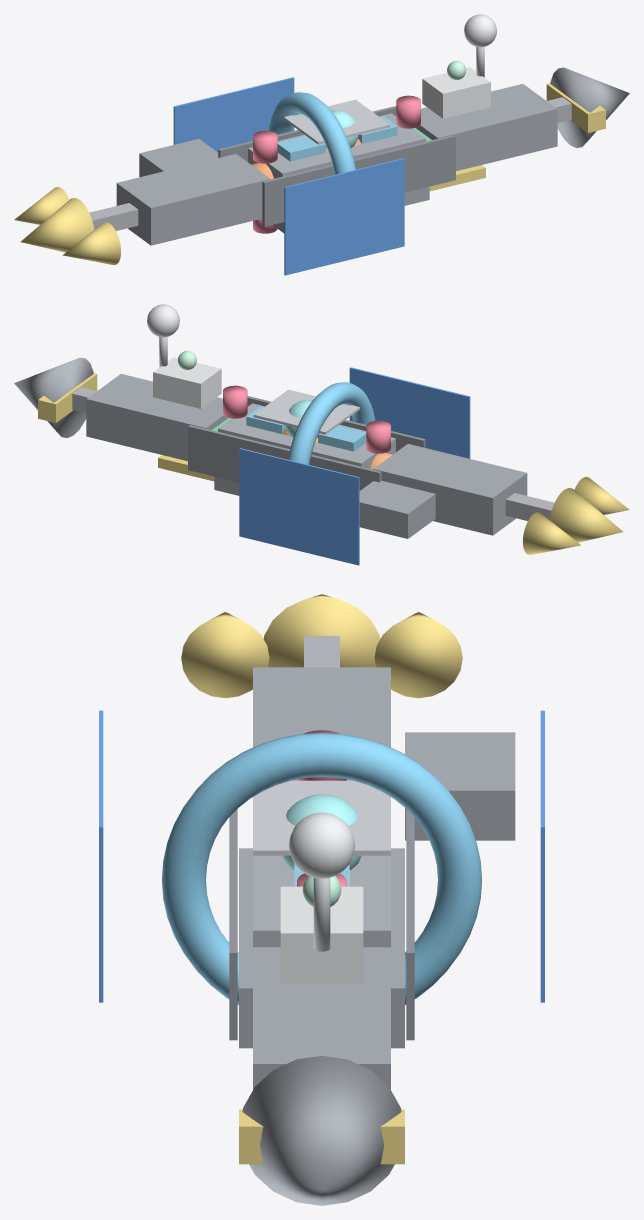
Rendered from leviathan.glb.
3 views of the same model, one above another, from view 1: azimuth 30°, elevation 25°; view 2: azimuth 150°, elevation 25°; view 3: azimuth 270°, elevation 25° (orthographic). The views are drawn at different scales.
Visible parts, largest first — view 1: LV_29_solar_star, LV_14_hull_aft, LV_13_hull_fore, LV_28_solar_port, LV_16_armor_star, LV_24_habitat_ring, LV_17_bow_tip, LV_25_bridge, LV_12_hull_up, LV_19_engine1, LV_35_hangar, LV_09_radiator (+13 smaller); view 2: LV_28_solar_port, LV_14_hull_aft, LV_13_hull_fore, LV_29_solar_star, LV_15_armor_port, LV_35_hangar, LV_24_habitat_ring, LV_17_bow_tip, LV_25_bridge, LV_12_hull_up, LV_19_engine1, LV_09_radiator (+12 smaller); view 3: LV_24_habitat_ring, LV_17_bow_tip, LV_13_hull_fore, LV_14_hull_aft, LV_35_hangar, LV_25_bridge, LV_09_radiator, LV_12_hull_up, LV_19_engine1, LV_11_hull_low, LV_20_engine2, LV_21_engine3 (+9 smaller).
Boxes of the visible parts, x1,y1,x2,y2 form: LV_29_solar_star: (284, 158, 404, 275); LV_14_hull_aft: (116, 154, 270, 245); LV_13_hull_fore: (416, 84, 557, 171); LV_28_solar_port: (173, 77, 294, 152); LV_16_armor_star: (262, 135, 455, 226); LV_24_habitat_ring: (268, 92, 355, 174); LV_17_bow_tip: (550, 67, 629, 148); LV_25_bridge: (422, 67, 490, 118); LV_12_hull_up: (248, 113, 425, 178); LV_19_engine1: (20, 198, 94, 252); LV_35_hangar: (139, 139, 218, 177); LV_09_radiator: (284, 99, 390, 144); LV_28_solar_port: (239, 448, 359, 565); LV_14_hull_aft: (373, 444, 527, 535); LV_13_hull_fore: (86, 374, 227, 461); LV_29_solar_star: (349, 367, 470, 458); LV_15_armor_port: (188, 425, 381, 490); LV_35_hangar: (359, 481, 435, 538); LV_24_habitat_ring: (288, 382, 375, 464); LV_17_bow_tip: (14, 357, 93, 438); LV_25_bridge: (153, 357, 221, 408); LV_12_hull_up: (218, 403, 395, 468); LV_19_engine1: (549, 488, 623, 542); LV_09_radiator: (253, 389, 359, 434); LV_24_habitat_ring: (162, 733, 481, 1004); LV_17_bow_tip: (242, 1056, 401, 1205); LV_13_hull_fore: (253, 947, 390, 1089); LV_14_hull_aft: (253, 667, 390, 780); LV_35_hangar: (405, 732, 515, 840); LV_25_bridge: (280, 886, 363, 983); LV_09_radiator: (253, 780, 390, 855); LV_12_hull_up: (253, 855, 390, 947); LV_19_engine1: (263, 594, 380, 667); LV_11_hull_low: (239, 848, 404, 1048); LV_20_engine2: (374, 611, 462, 698); LV_21_engine3: (181, 611, 269, 698).
Size of the model in its own units: 51 by 14.9 by 16.15.
